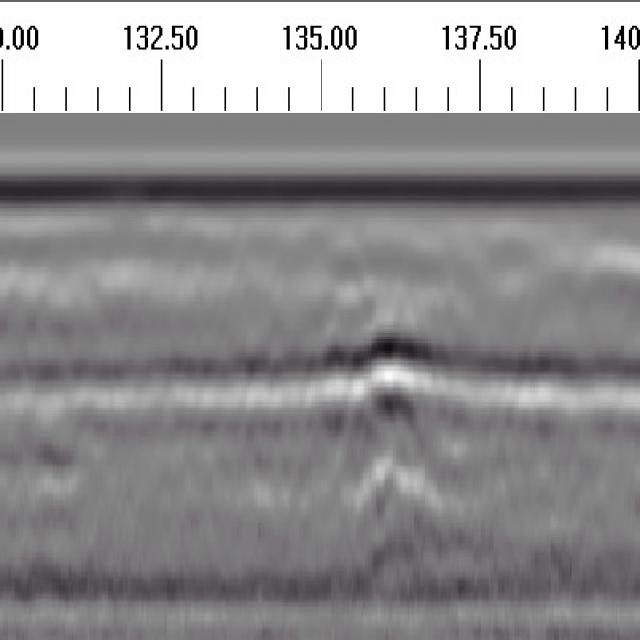loose: (278, 298, 472, 411)
